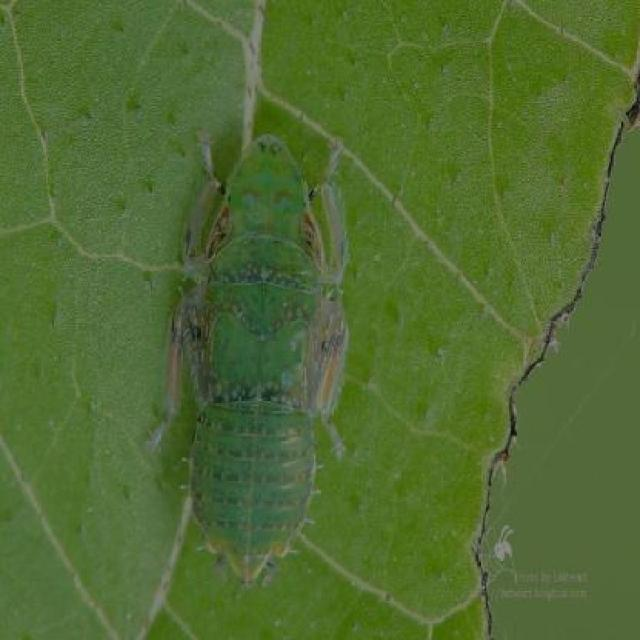green-leafhopper: (164, 130, 350, 576)
